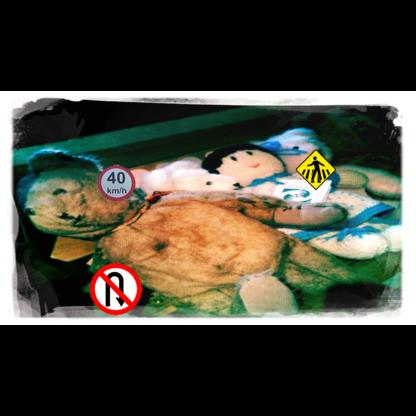A-32b: (295, 149, 336, 190)
R-19: (97, 165, 135, 201)
